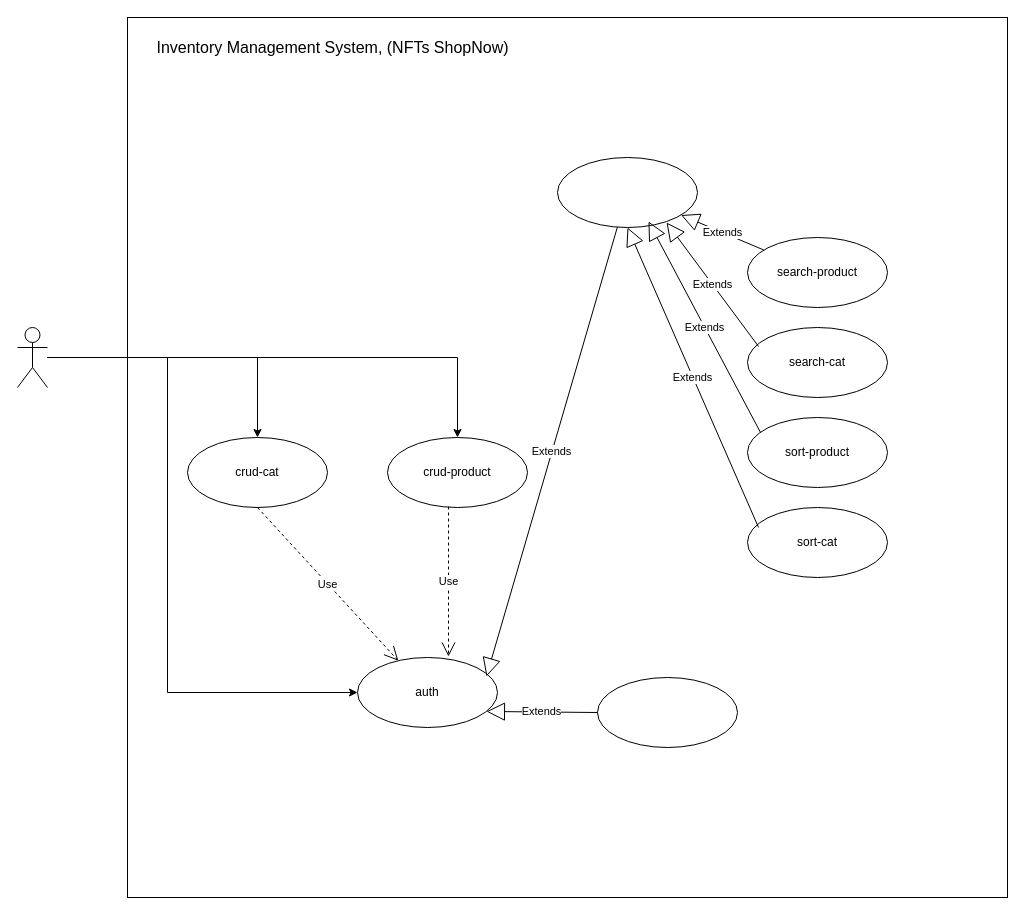
The diagram is 1025 pixels wide and 915 high, and some of its shapes have lost their labels. The shapes that lost their labels are listed below. From the top down, each one's centre as x and y in pixels, then its label:
(x=627, y=192): display-invent
(x=32, y=357): User
(x=667, y=712): display-stats
